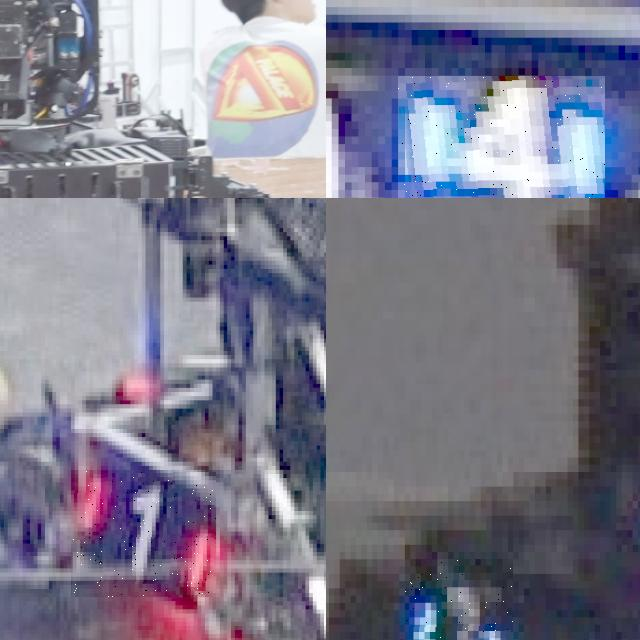B2: (404, 559, 513, 640)
B4: (398, 75, 604, 198)
R1: (71, 470, 216, 597)
